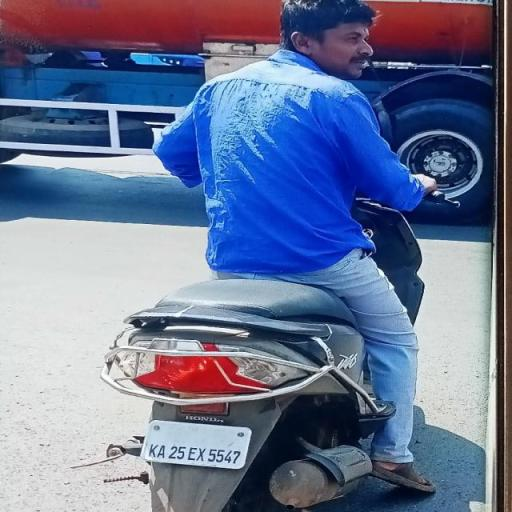bike: (82, 0, 446, 512)
numberplate: (144, 417, 256, 476)
withouthelmet: (283, 0, 376, 60)
